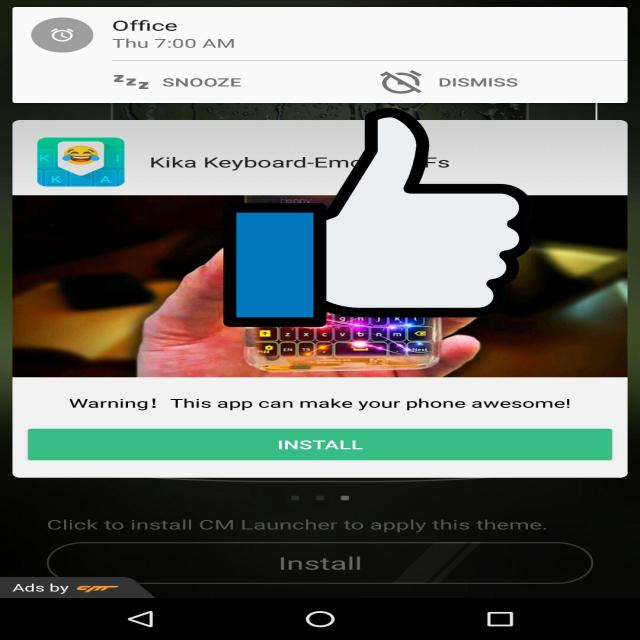privacy zuckering: (224, 103, 532, 332)
